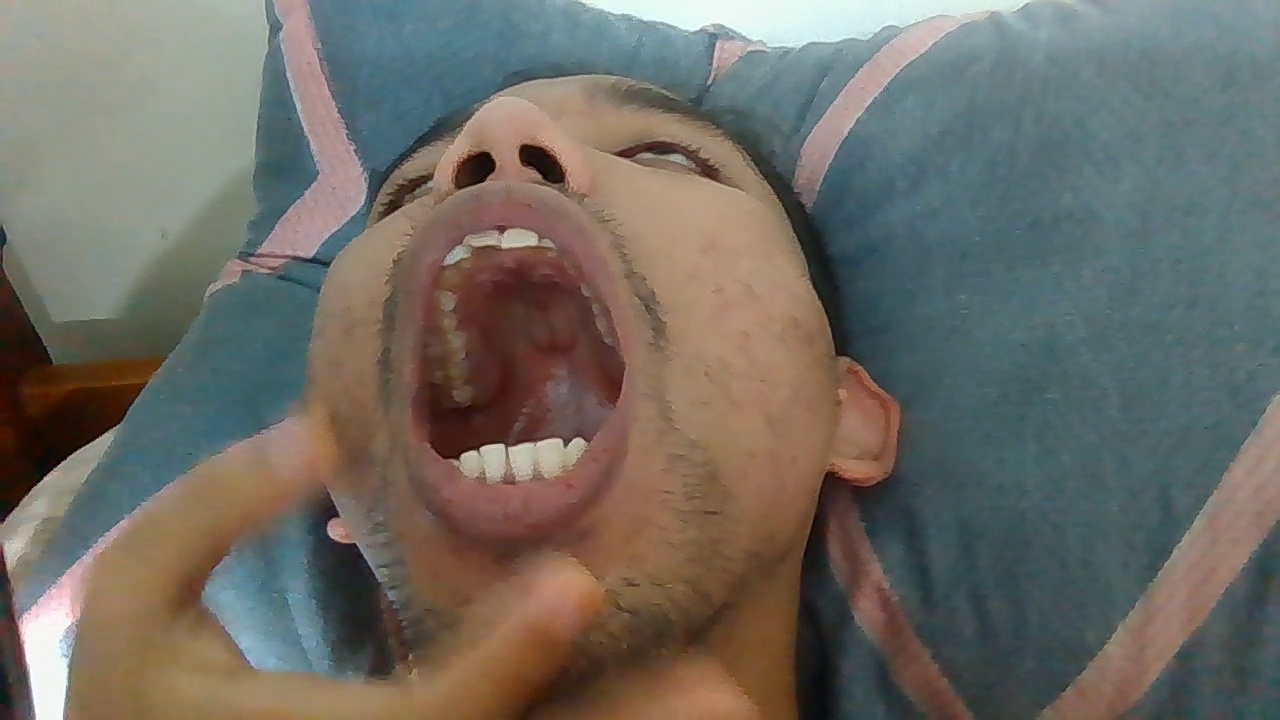1st Molar: (420, 331, 468, 360)
2nd Molar: (428, 361, 469, 385)
3rd Molar: (437, 386, 472, 409)
Canine: (566, 434, 591, 466)
Central Incisor: (480, 442, 508, 484), (508, 440, 535, 482), (462, 229, 502, 250), (503, 227, 539, 249)
Lateral Incisor: (534, 438, 566, 478), (442, 244, 472, 267), (460, 448, 481, 475)
